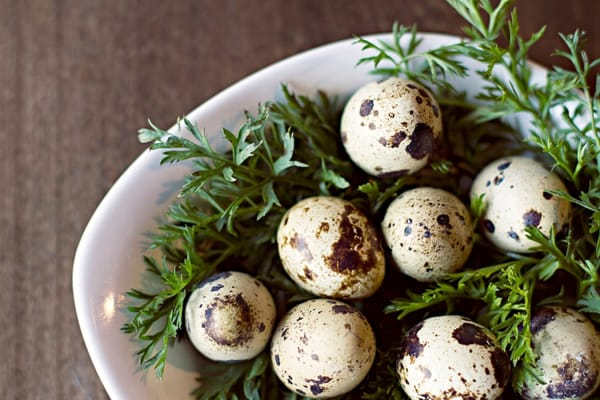sushi: (67, 21, 600, 395)
